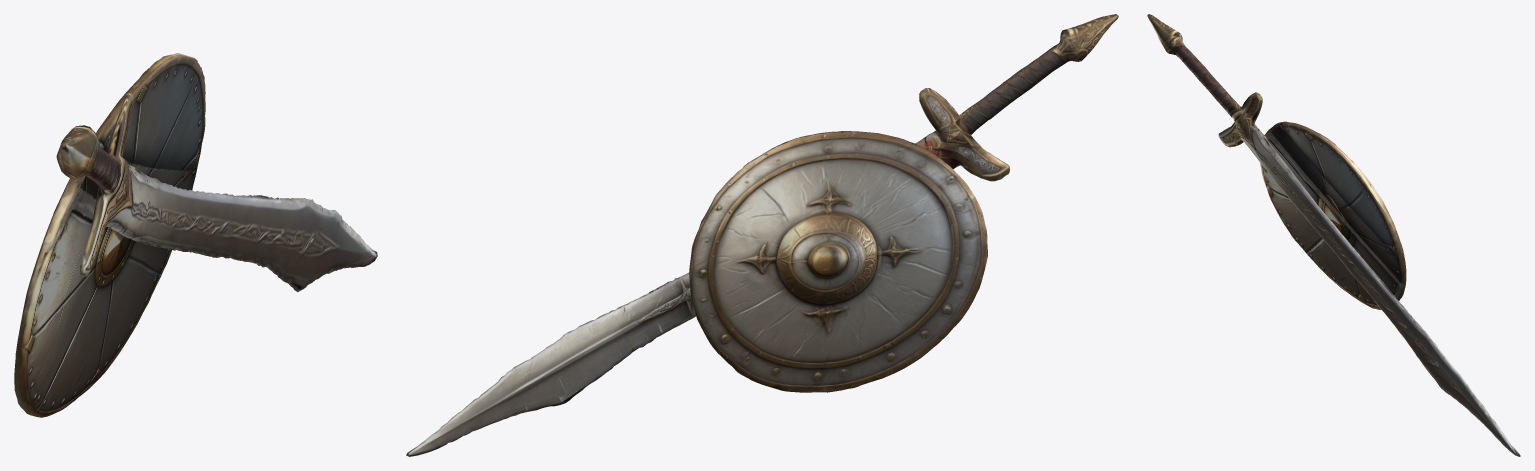
File: sword_shield.glb
3 views of the same model, side by side, from view 1: azimuth 30°, elevation 25°; view 2: azimuth 150°, elevation 25°; view 3: azimuth 270°, elevation 25° (orthographic). The views are drawn at different scales.
Bounding box in the file's own units: 2.02 × 1.56 × 1.91.
Materials: 1 (1 with a texture image).
